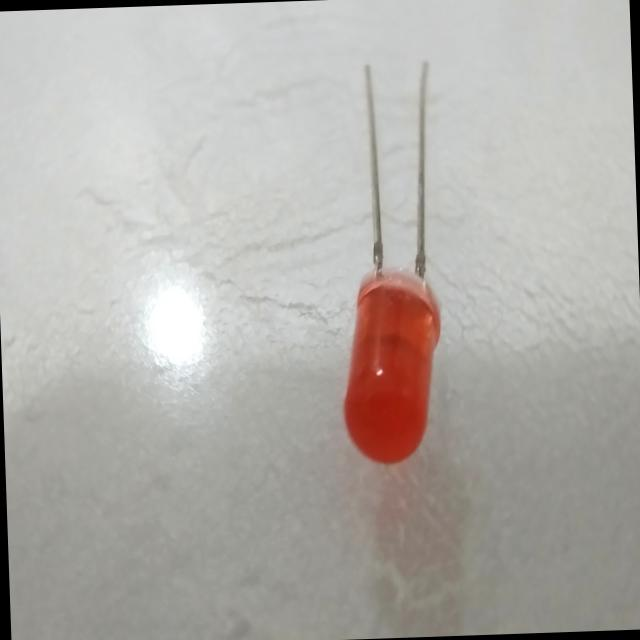red_led: (324, 260, 462, 494)
